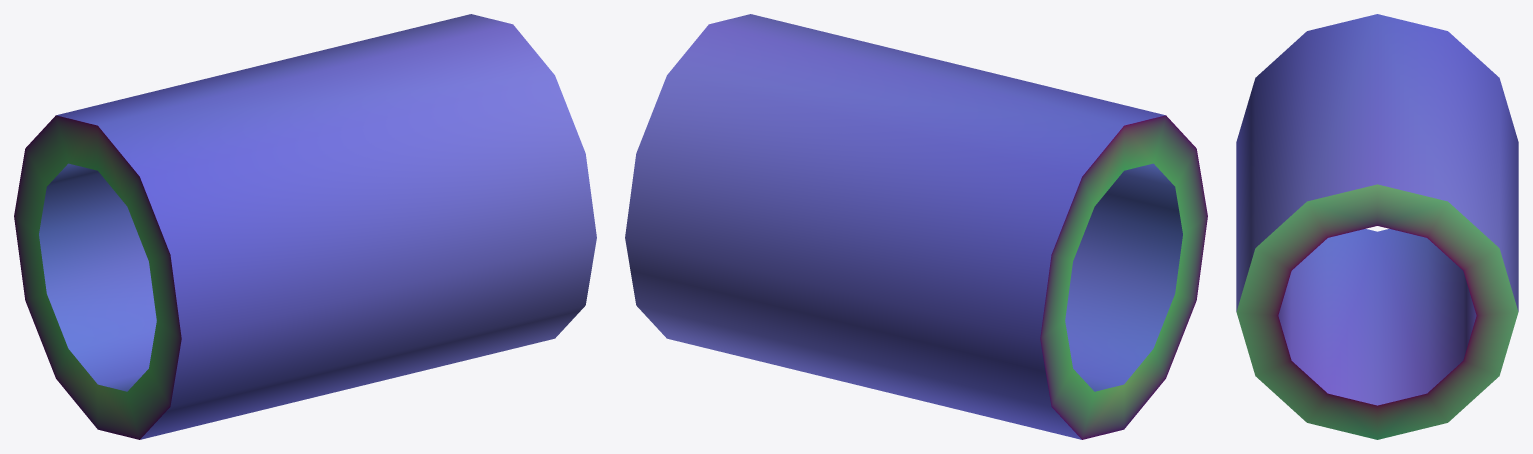
File: cw_ClukayR01_Silencer_WL.fbx
3 views of the same model, side by side, from view 1: azimuth 30°, elevation 25°; view 2: azimuth 150°, elevation 25°; view 3: azimuth 270°, elevation 25° (orthographic). The views are drawn at different scales.
Visible parts, largest first — view 1: cw_ClukayR01_Silencer_WL_lod0; view 2: cw_ClukayR01_Silencer_WL_lod0; view 3: cw_ClukayR01_Silencer_WL_lod0.
Part boxes in pixels (bbox=[...]): cw_ClukayR01_Silencer_WL_lod0: bbox=[14, 14, 596, 439]; cw_ClukayR01_Silencer_WL_lod0: bbox=[625, 14, 1207, 439]; cw_ClukayR01_Silencer_WL_lod0: bbox=[1236, 14, 1518, 439].
Size of what is drawn, in the model's own units: 0.0275 by 0.0189 by 0.0189.
